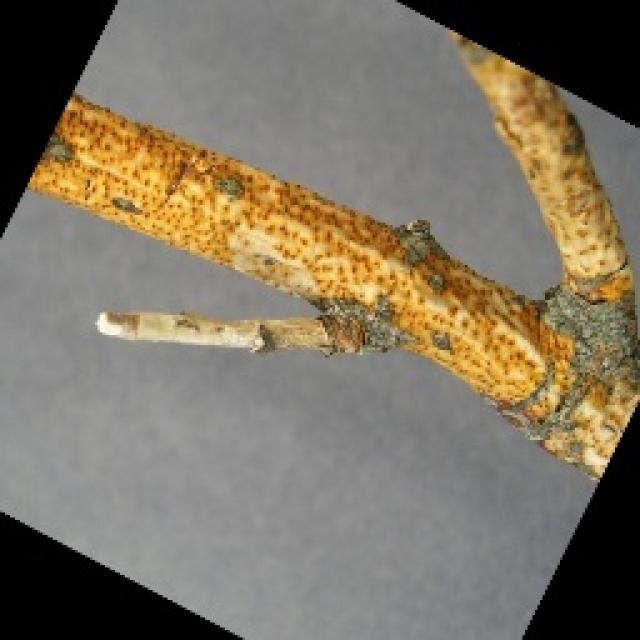Golden_canker: (17, 11, 640, 474)
